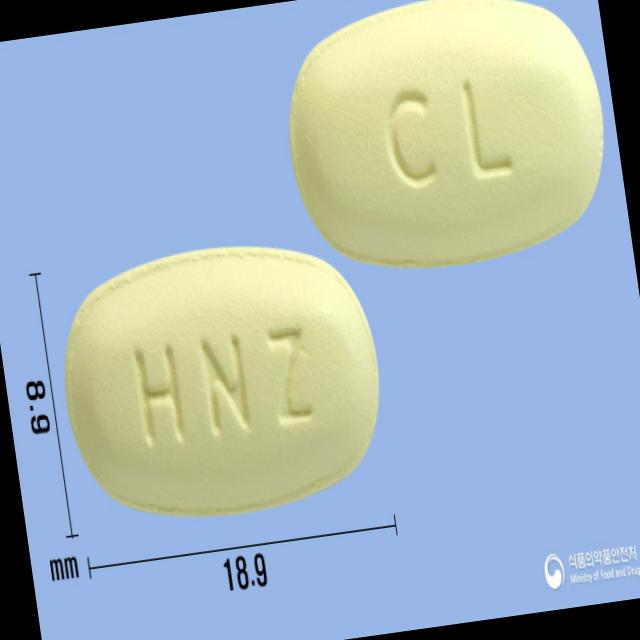Claniz: (42, 220, 404, 543), (271, 0, 624, 288)
